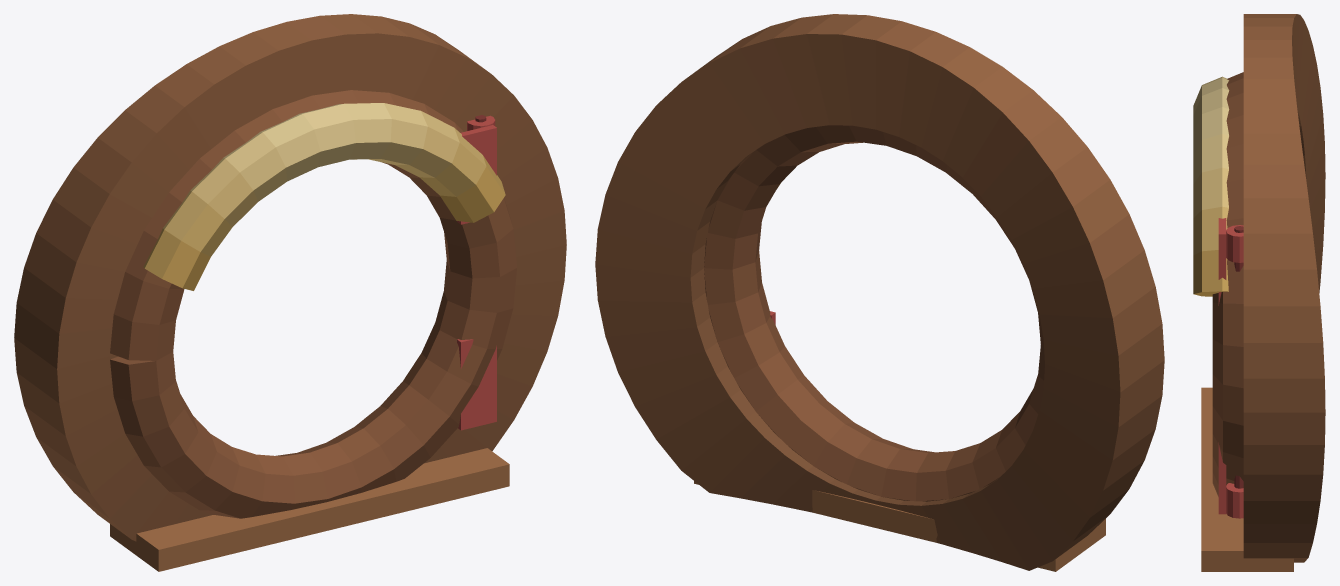
Rendered from goo_jar_door@winter.fbx.
3 renders of one model, left to right at view 1: azimuth 30°, elevation 25°; view 2: azimuth 150°, elevation 25°; view 3: azimuth 270°, elevation 25°, orthographic. The views are drawn at different scales.
Parts seen in each view (by area): view 1: goo_jar_door; view 2: goo_jar_door; view 3: goo_jar_door.
Boxes of the visible parts, x1,y1,x2,y2 form: goo_jar_door: [14, 14, 566, 571]; goo_jar_door: [595, 14, 1164, 571]; goo_jar_door: [1193, 14, 1325, 571].
Size of the model in its own units: 14.52 by 13.06 by 3.42.
